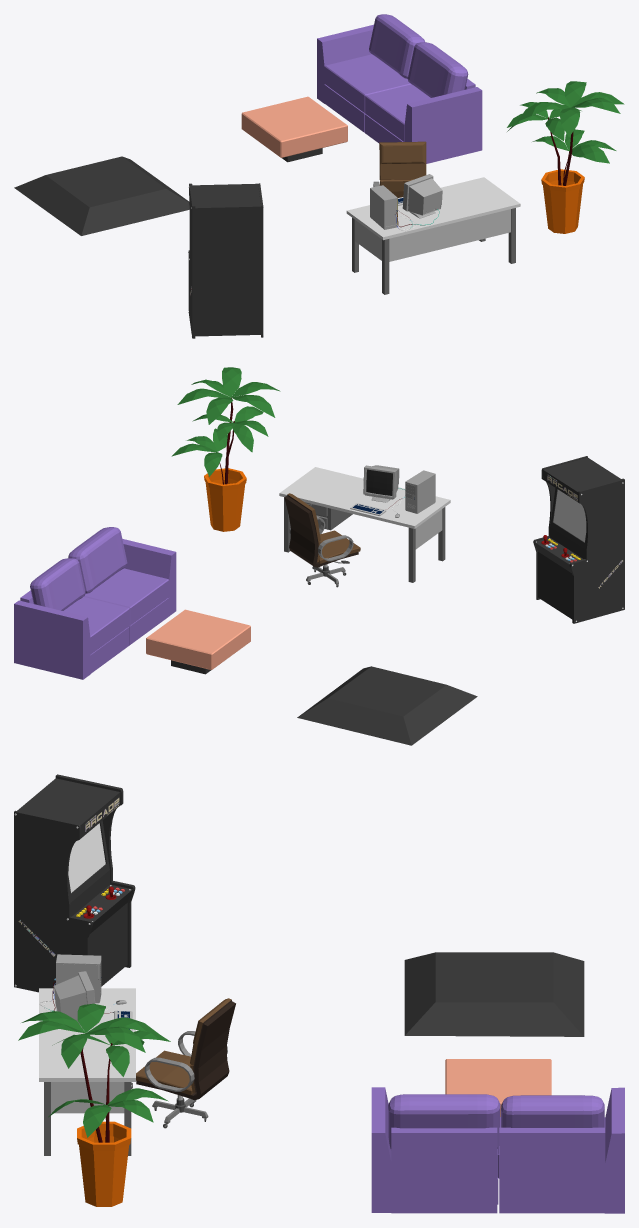
The model's file is office.glb.
3 renders of one model, top to bottom at view 1: azimuth 30°, elevation 25°; view 2: azimuth 150°, elevation 25°; view 3: azimuth 270°, elevation 25°, orthographic. The views are drawn at different scales.
Parts seen in each view (by area): view 1: couch, Arcade_Cabinet, desk, shader_platform, plant, table, computer, office_chair; view 2: couch, Arcade_Cabinet, shader_platform, plant, desk, table, office_chair, computer, ArcadeScreen, computer_screen; view 3: couch, Arcade_Cabinet, shader_platform, plant, desk, office_chair, table, computer, ArcadeScreen.
Part boxes in pixels (x1,y1,x2,y2): couch: (317, 14, 482, 163); Arcade_Cabinet: (188, 183, 263, 338); desk: (346, 177, 520, 294); shader_platform: (14, 156, 189, 235); plant: (507, 81, 624, 233); table: (241, 96, 347, 162); computer: (370, 174, 442, 231); office_chair: (373, 141, 426, 197); couch: (14, 527, 176, 679); Arcade_Cabinet: (533, 456, 624, 623); shader_platform: (297, 666, 477, 745); plant: (171, 367, 280, 531); desk: (279, 467, 450, 582); table: (146, 609, 250, 674); office_chair: (284, 493, 360, 587); computer: (350, 465, 435, 517); ArcadeScreen: (553, 489, 586, 542); computer_screen: (366, 469, 392, 495); couch: (371, 1087, 624, 1213); Arcade_Cabinet: (14, 774, 135, 992); shader_platform: (404, 952, 584, 1036); plant: (18, 1003, 170, 1206); desk: (39, 988, 135, 1155); office_chair: (136, 998, 235, 1128); table: (445, 1059, 551, 1116); computer: (40, 954, 132, 1030); ArcadeScreen: (68, 823, 105, 892).
Size of what is drawn, in the model's own units: 22.83 by 7.13 by 20.72.
11 materials, 1 textured.
